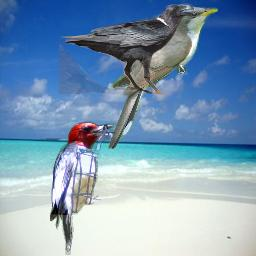Crow: (59, 2, 195, 94)
Cuckoo: (108, 7, 218, 149)
Woodpecker: (50, 121, 119, 255)
